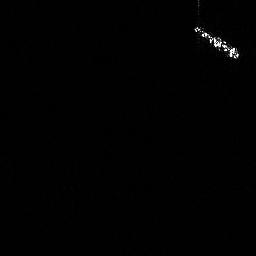ship: (190, 21, 241, 61)
